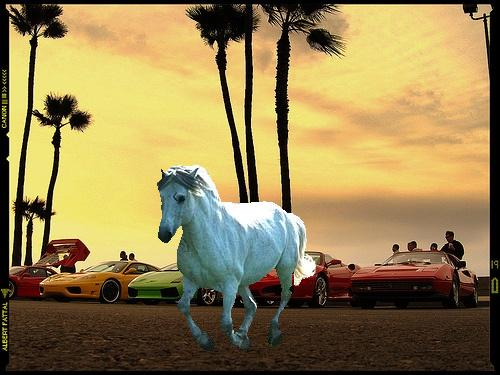tampered: (158, 166, 316, 351)
